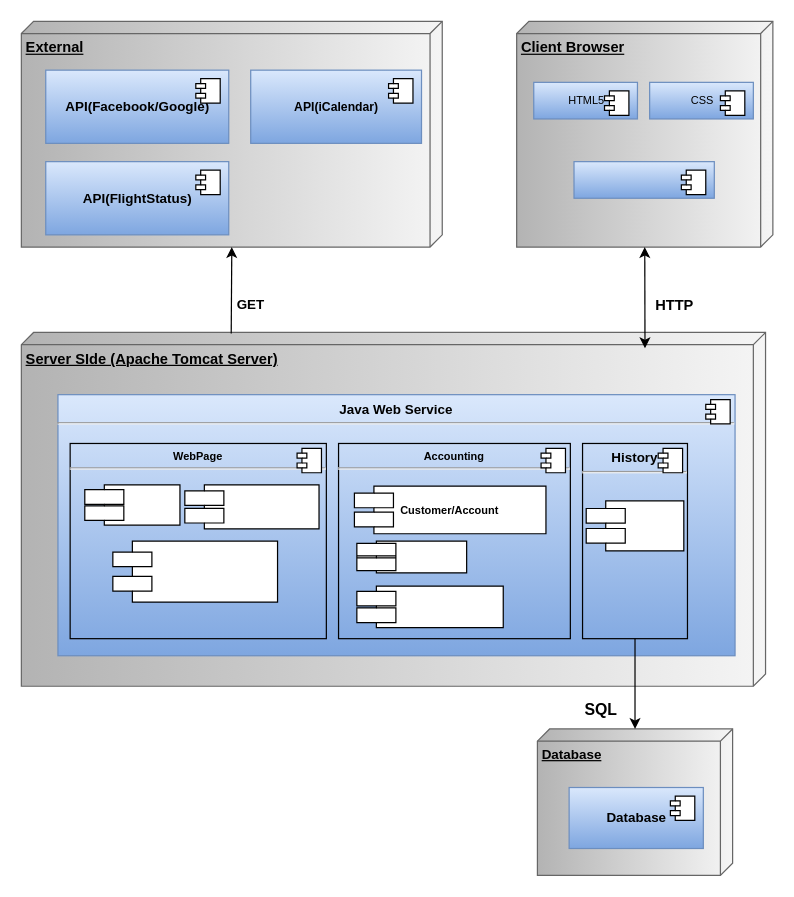
Image size: 794x897. Some labels were removed from this diagram. Here are the shapes that lost their labels. From the top down, the centre of each, then its label:
the point at 643,179: JavaScript
the point at 132,504: Login
the point at 251,506: SearchEngine
the point at 634,525: History Flights
the point at 195,571: Recommandation
the point at 411,556: Groups
the point at 429,606: SearchedFlights
